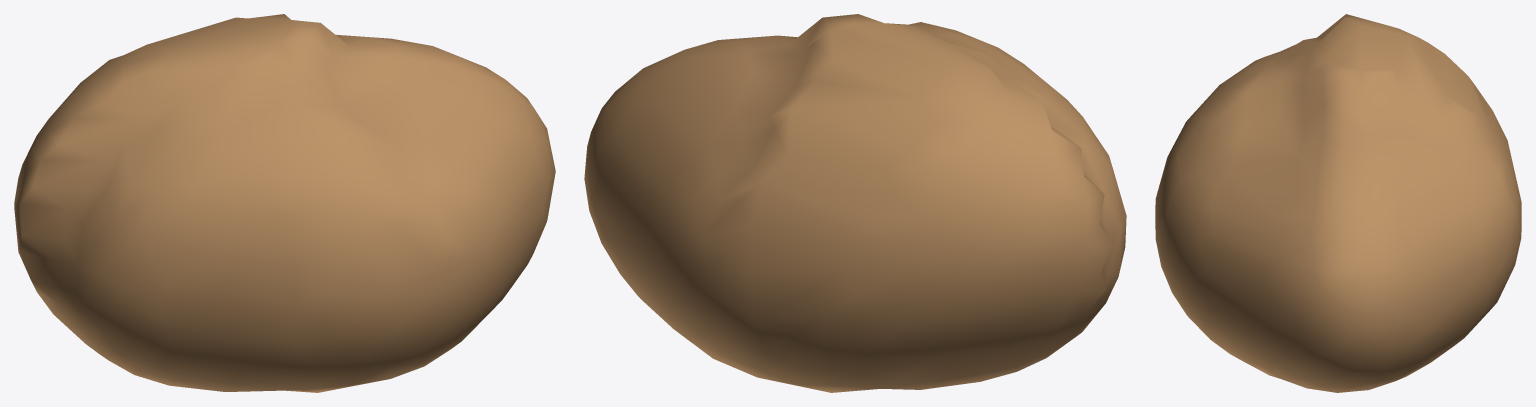
File: E27_Sandstone_B.fbx
3 views of the same model, side by side, from view 1: azimuth 30°, elevation 25°; view 2: azimuth 150°, elevation 25°; view 3: azimuth 270°, elevation 25° (orthographic). The views are drawn at different scales.
Visible parts, largest first — view 1: E27_Sandstone_B_Sandstone; view 2: E27_Sandstone_B_Sandstone; view 3: E27_Sandstone_B_Sandstone.
Boxes of the visible parts, x1=… form: E27_Sandstone_B_Sandstone: x1=14, y1=14, x2=555, y2=392; E27_Sandstone_B_Sandstone: x1=584, y1=14, x2=1126, y2=392; E27_Sandstone_B_Sandstone: x1=1155, y1=14, x2=1521, y2=392.
Size of the model in its own units: 109 by 61.27 by 79.59.
